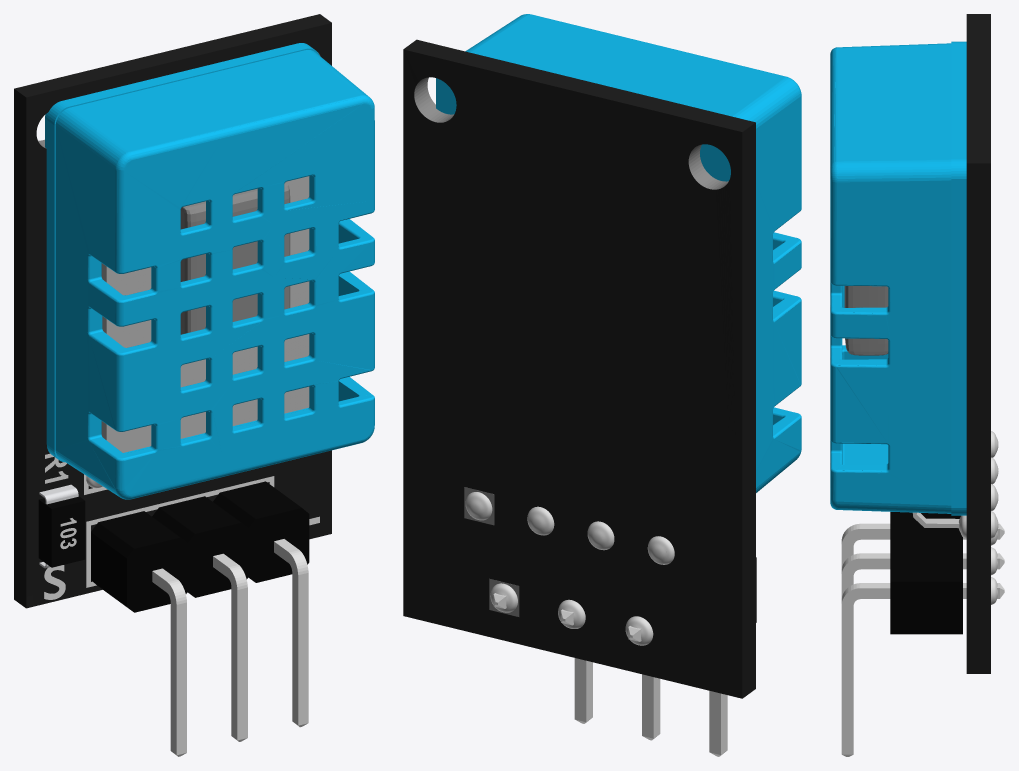
The model's file is DHT11_sensor_compressed.glb.
3 renders of one model, left to right at view 1: azimuth 30°, elevation 25°; view 2: azimuth 150°, elevation 25°; view 3: azimuth 270°, elevation 25°, orthographic. The views are drawn at different scales.
Parts seen in each view (by area): view 1: Plastico_azul-material (×2), cor_placa-material (×2), plastico_preto-material, metal-material, zinza-material, aluminio-material, plastico_preto_002-material, letras-material; view 2: cor_placa-material (×2), Plastico_azul-material (×2), metal-material (×2), aluminio-material; view 3: Plastico_azul-material (×2), cor_placa-material, plastico_preto-material, metal-material (×2), aluminio-material, pino_metal-material.
Boxes of the visible parts, <box> form: Plastico_azul-material (×2): <box>45,43,374,499</box>; cor_placa-material (×2): <box>14,14,331,608</box>; plastico_preto-material: <box>91,481,309,612</box>; metal-material: <box>152,539,308,756</box>; zinza-material: <box>101,176,309,452</box>; aluminio-material: <box>180,182,290,334</box>; plastico_preto_002-material: <box>38,496,85,567</box>; letras-material: <box>44,474,319,599</box>; cor_placa-material (×2): <box>403,39,755,698</box>; Plastico_azul-material (×2): <box>436,14,801,492</box>; metal-material (×2): <box>465,492,727,756</box>; aluminio-material: <box>414,77,728,189</box>; Plastico_azul-material (×2): <box>830,41,966,515</box>; cor_placa-material: <box>966,14,990,673</box>; plastico_preto-material: <box>890,512,962,634</box>; metal-material (×2): <box>841,431,1004,756</box>; aluminio-material: <box>844,286,888,355</box>; pino_metal-material: <box>912,512,959,528</box>.
Bounding box in the file's own units: 0.0146 × 0.0291 × 0.00721.
